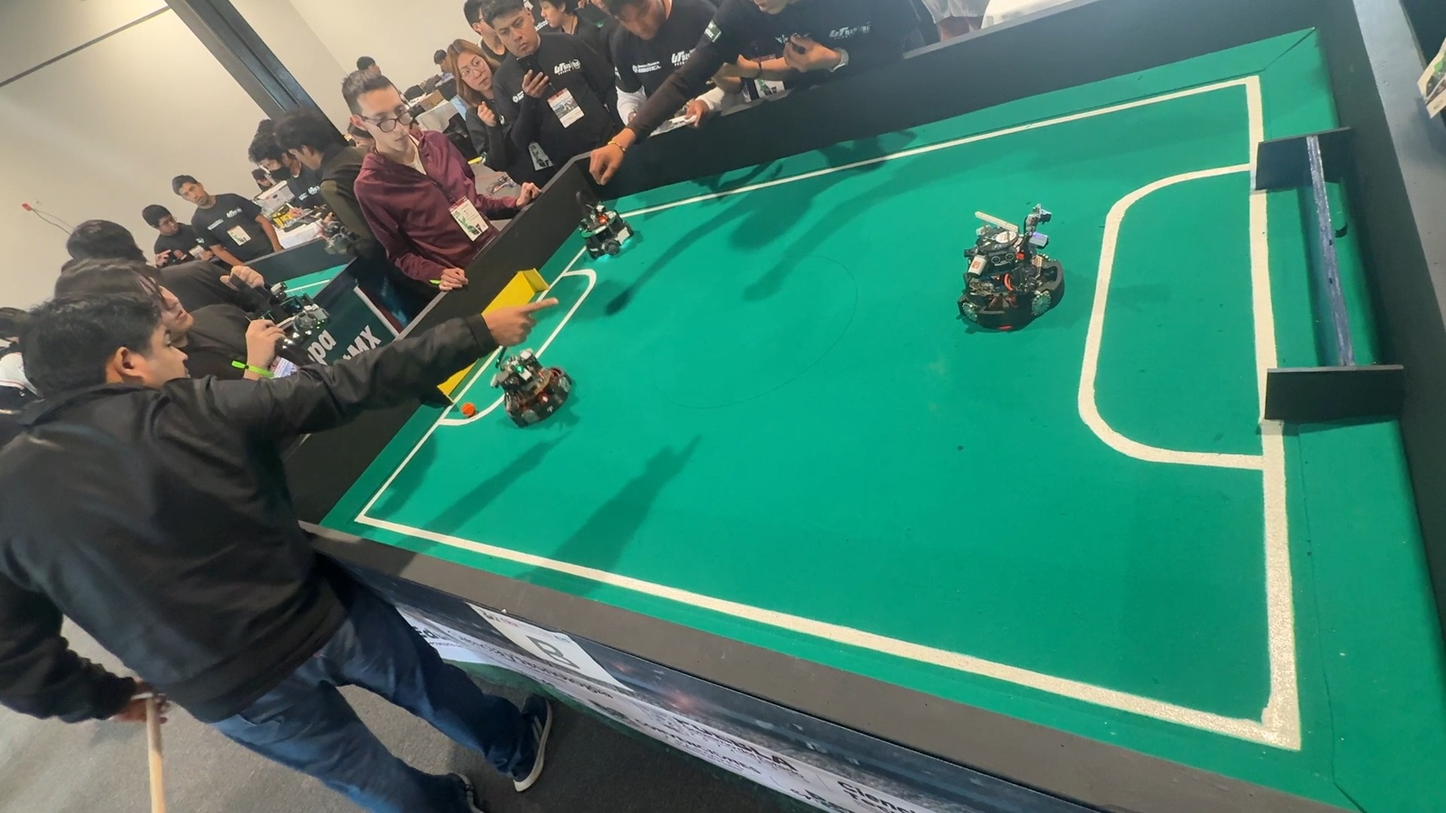Robot: (940, 199, 1064, 345), (481, 337, 578, 437), (579, 196, 643, 270)
